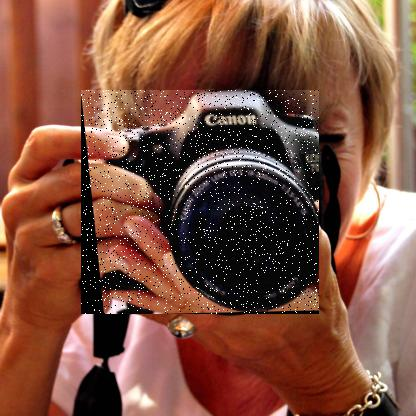Camera: (82, 91, 321, 316)
